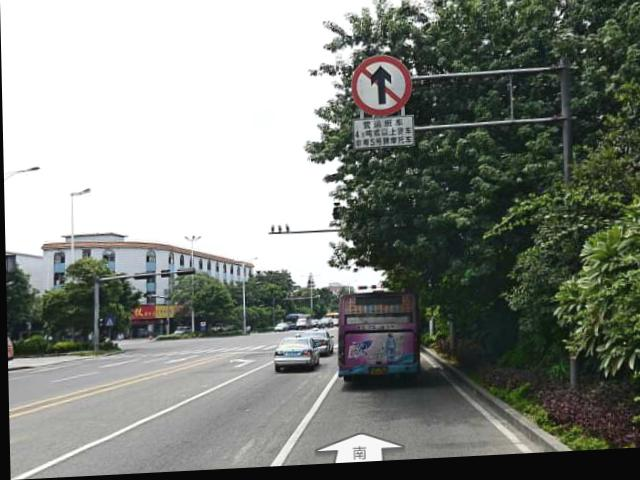not_go_straight: (346, 57, 413, 122)
